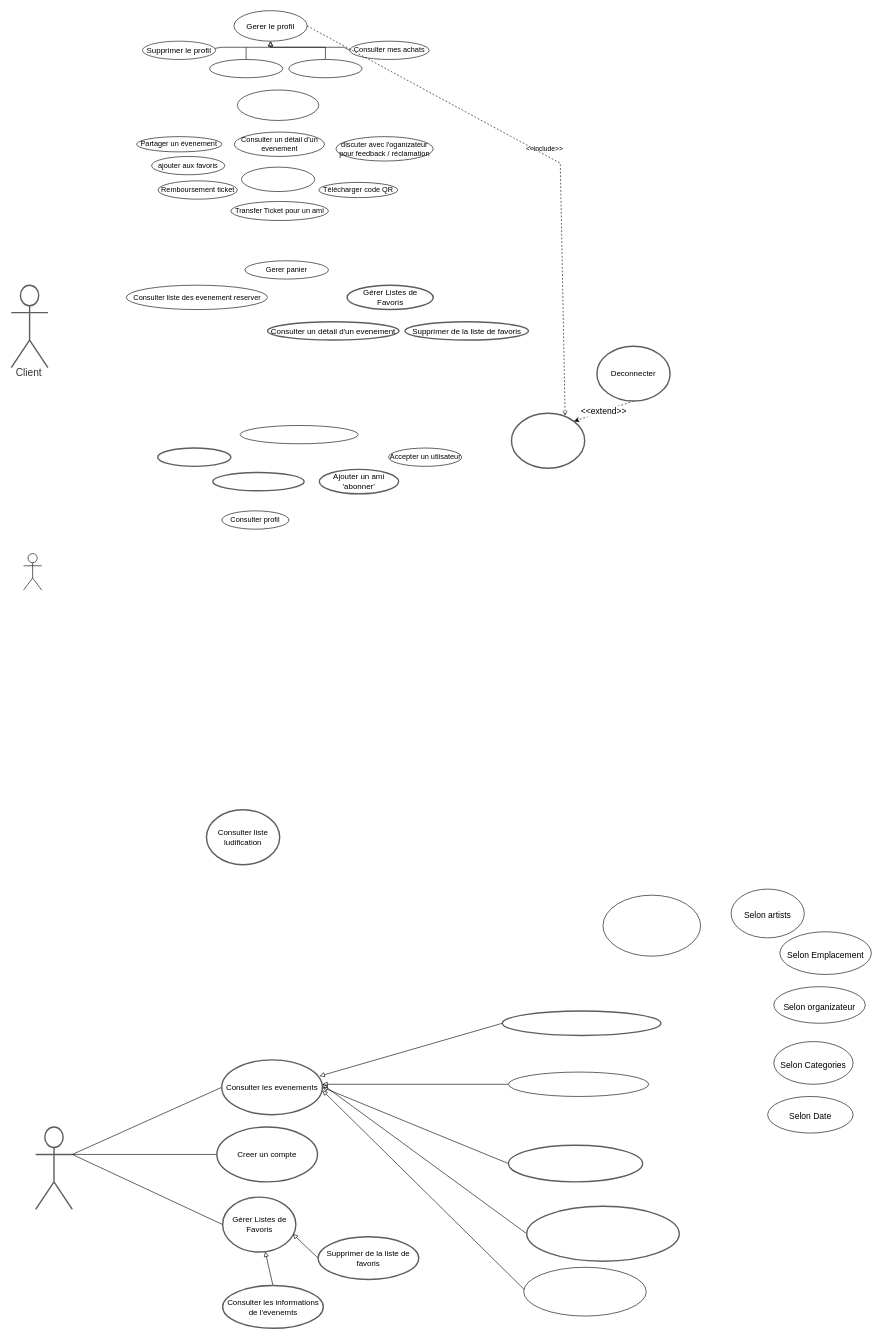
The diagram is 882 pixels wide and 1340 high, and some of its shapes have lost their labels. The centre of each missing label's shape, as x and y in pixels:
"Actor" belongs at [32,571].
"Ajouter au favoris" belongs at [575,1163].
"Chercher des utilisateur" belongs at [258,481].
"Consulter la liste des évenements" belongs at [278,104].
"Consulter profil de l'organisateur" belongs at [578,1083].
"Desactiver le profil" belongs at [246,68].
"Filterr les evenements selon Prix d'evenement /date d'evenement" belongs at [603,1233].
"Gerer la liste des utilisateur" belongs at [299,434].
"Modifier le profil" belongs at [325,68].
"Partager un evenement" belongs at [584,1291].
"Rechercher un evenement" belongs at [581,1023].
"Reserver un evenement" belongs at [278,179].
"S'authentifier" belongs at [548,440].
"Selon nom d'evenement" belongs at [651,925].
"Supprimer un ami" belongs at [194,457].
"Utilisateur" belongs at [54,1168].
